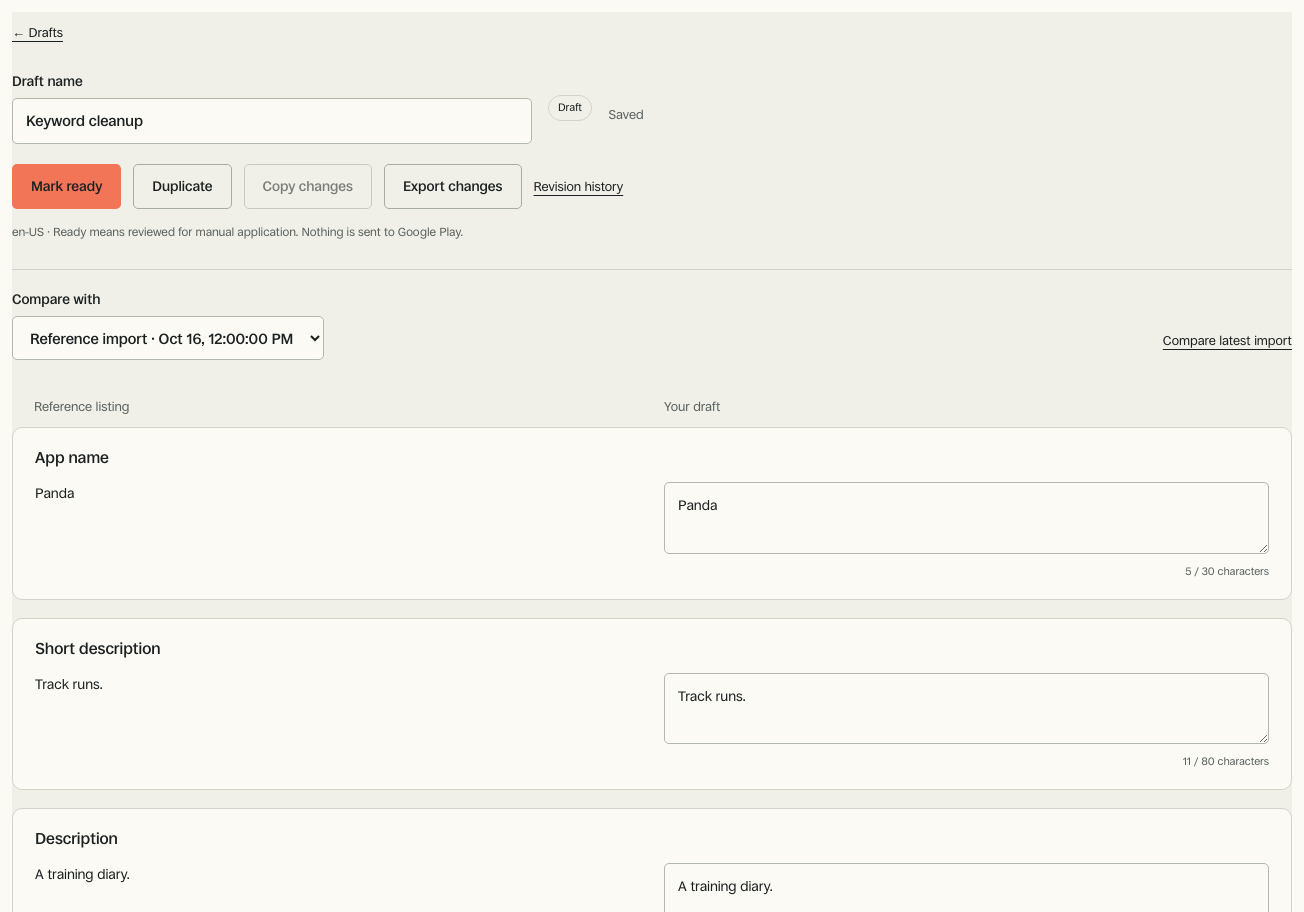
Test case: edits and autosaves only the three Google Play fields with the short description limit
Replace the text in the text box named "Draft Short description" with "Track every run." at (966, 709), box [664,673,1269,744]
Wait 700 ms
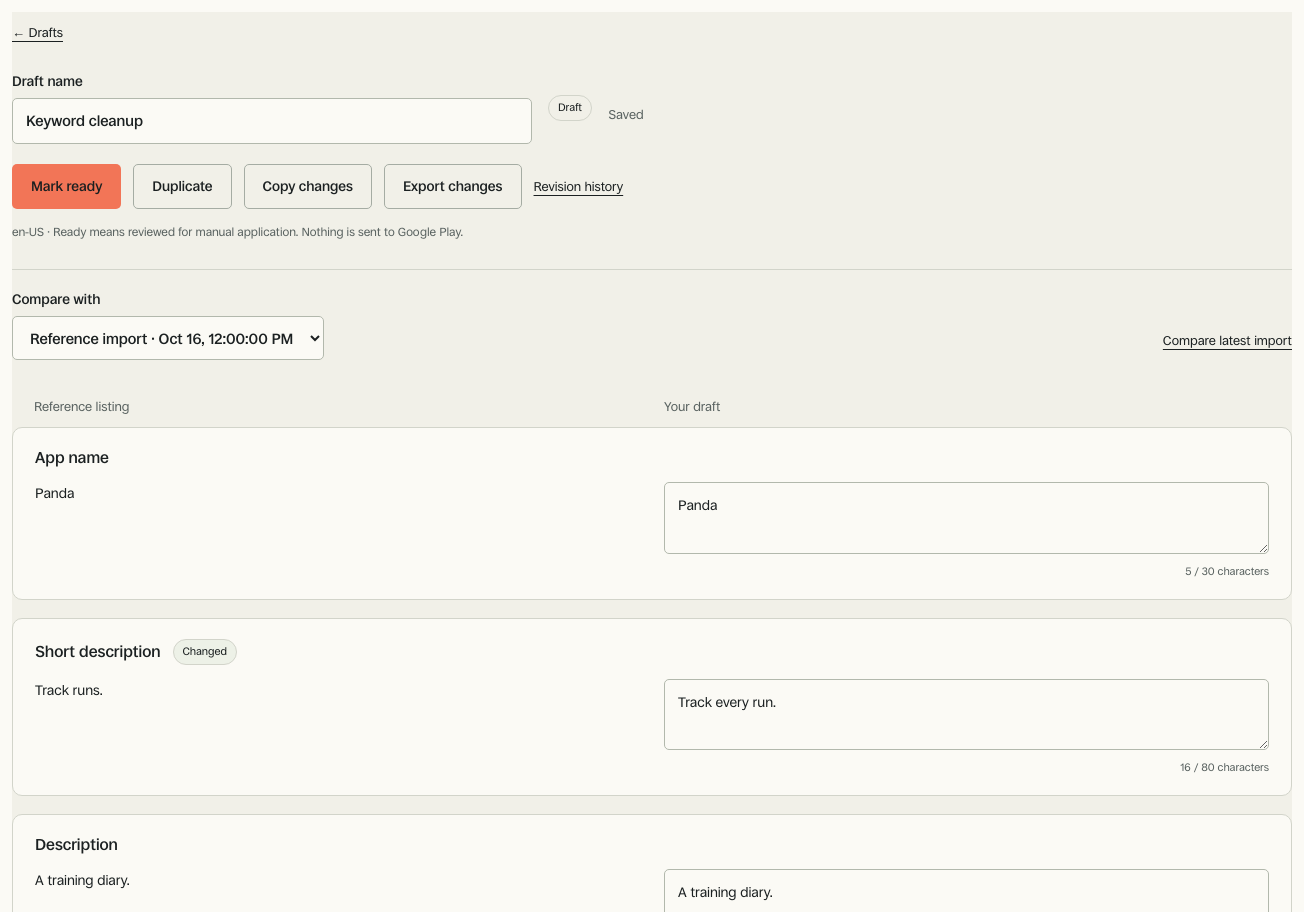
Expected: the text "Saved" is shown, [608,105,644,125]
Now the text "16 / 80 characters" is shown, box [1180,761,1269,774]
